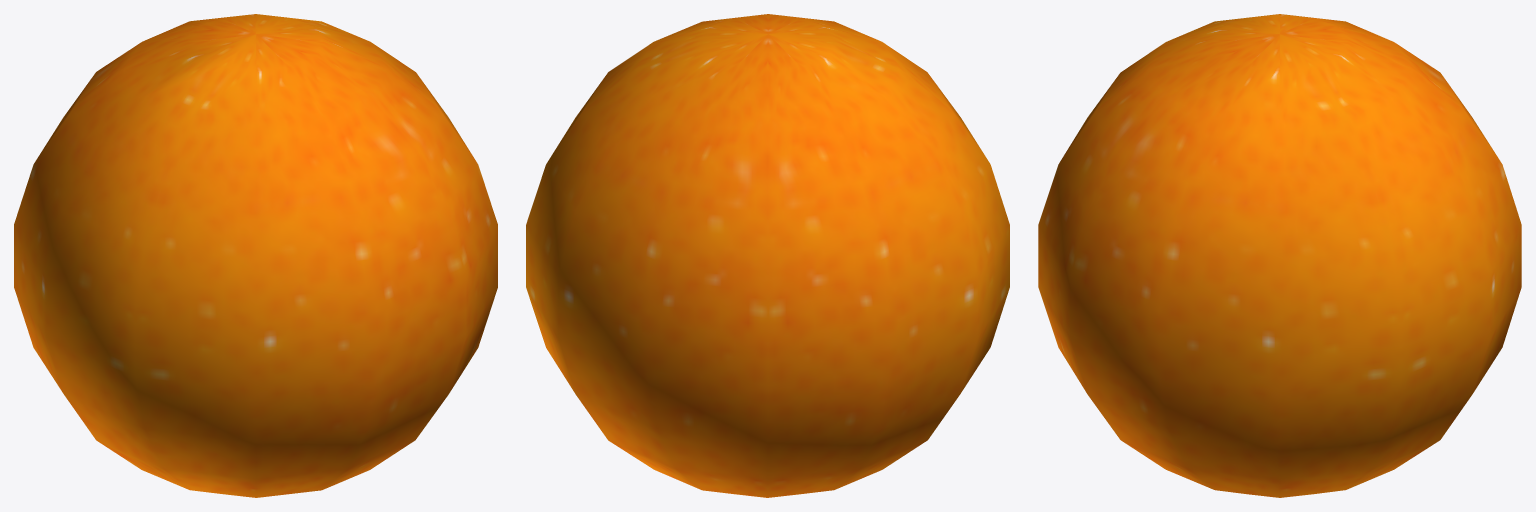
Rendered from orange.glb.
The picture shows the model from 3 angles, left to right: view 1: azimuth 30°, elevation 25°; view 2: azimuth 150°, elevation 25°; view 3: azimuth 270°, elevation 25°; orthographic projection.
Parts seen in each view (by area): view 1: PfOrange; view 2: PfOrange; view 3: PfOrange.
Part boxes in pixels (bbox=[...]): PfOrange: bbox=[14, 14, 497, 497]; PfOrange: bbox=[526, 14, 1009, 497]; PfOrange: bbox=[1038, 14, 1521, 497].
Bounding box in the file's own units: 0.0274 × 0.0277 × 0.0274.
1 material, 1 textured.
